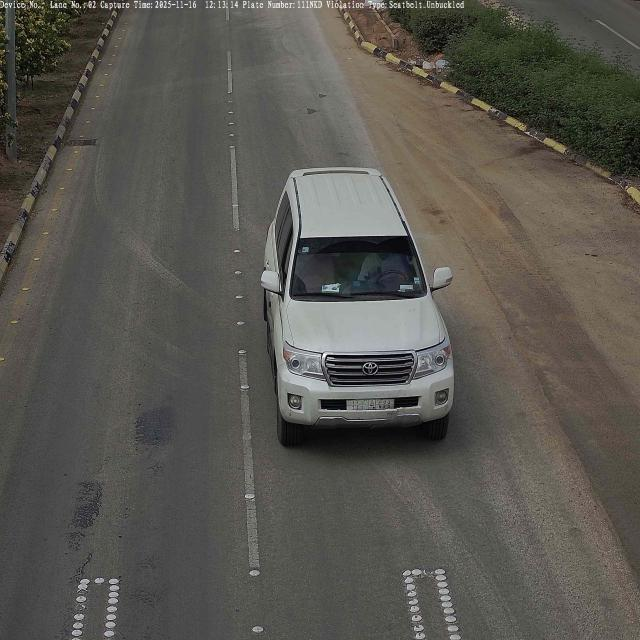person_without_seatbelt: (360, 253, 407, 286)
